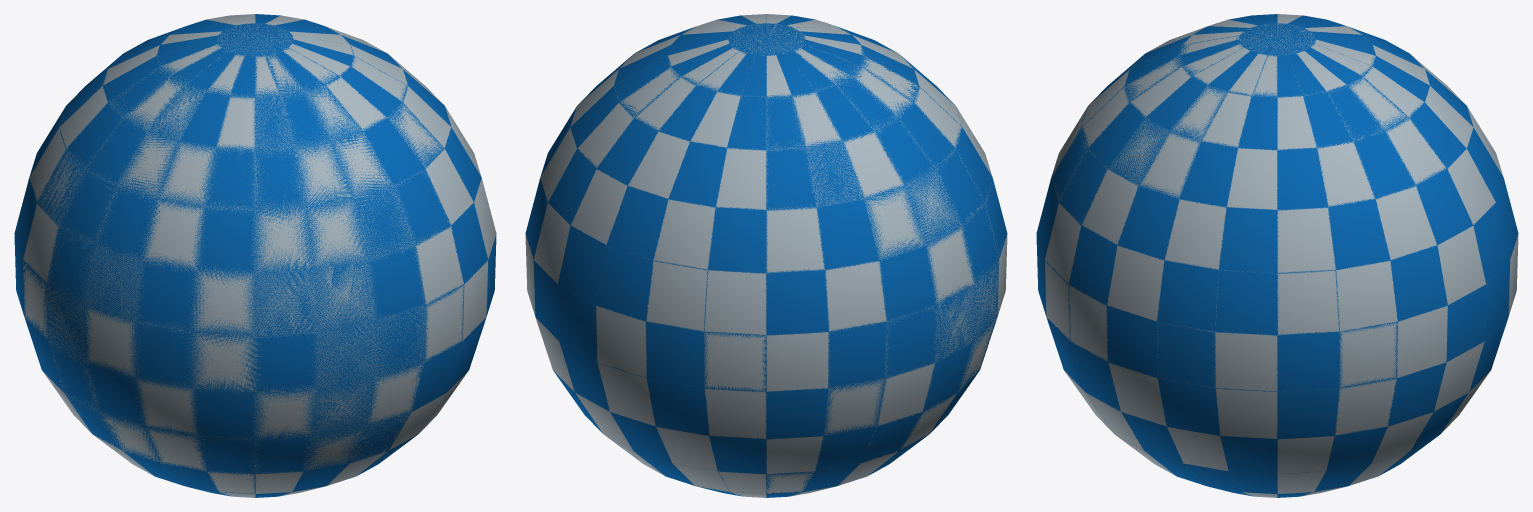
Rendered from Ball_blue_01.obj.
The picture shows the model from 3 angles, left to right: view 1: azimuth 30°, elevation 25°; view 2: azimuth 150°, elevation 25°; view 3: azimuth 270°, elevation 25°; orthographic projection.
Parts seen in each view (by area): view 1: Mesh1 Ball_blue Model; view 2: Mesh1 Ball_blue Model; view 3: Mesh1 Ball_blue Model.
Boxes of the visible parts, x1=… form: Mesh1 Ball_blue Model: x1=14, y1=14, x2=496, y2=497; Mesh1 Ball_blue Model: x1=525, y1=14, x2=1007, y2=497; Mesh1 Ball_blue Model: x1=1036, y1=14, x2=1518, y2=497.
Bounding box in the file's own units: 0.2099 × 0.2096 × 0.2099.
